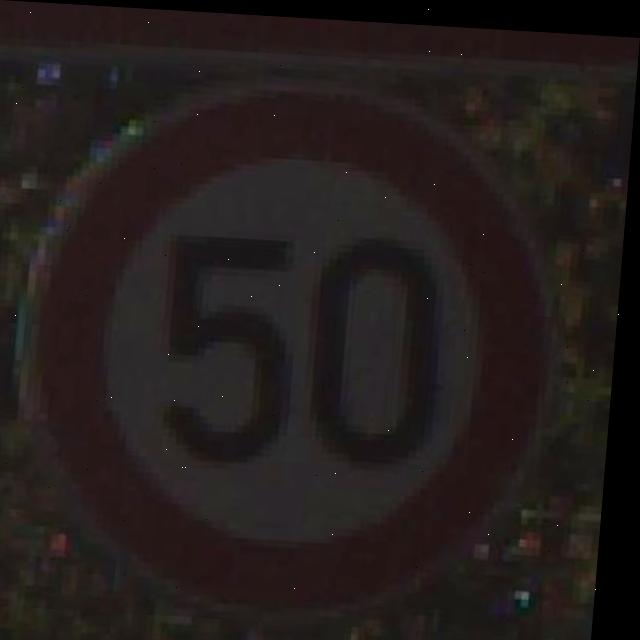Speed limit 50: (18, 63, 580, 620)
